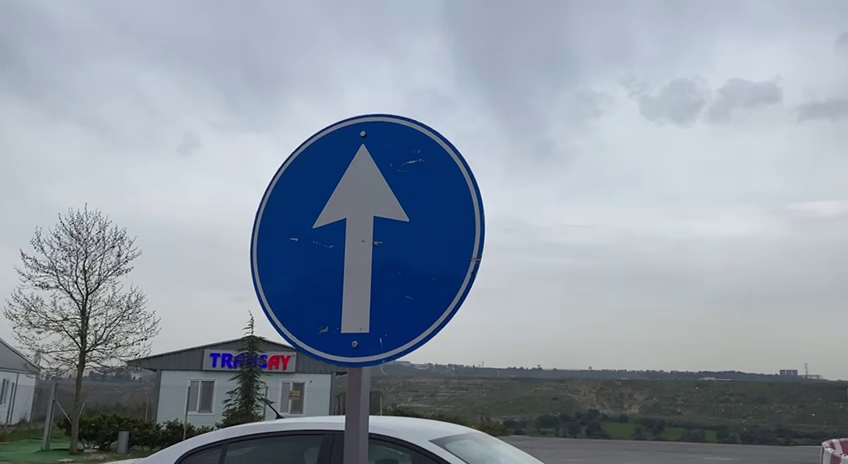forward: (238, 108, 497, 372)
